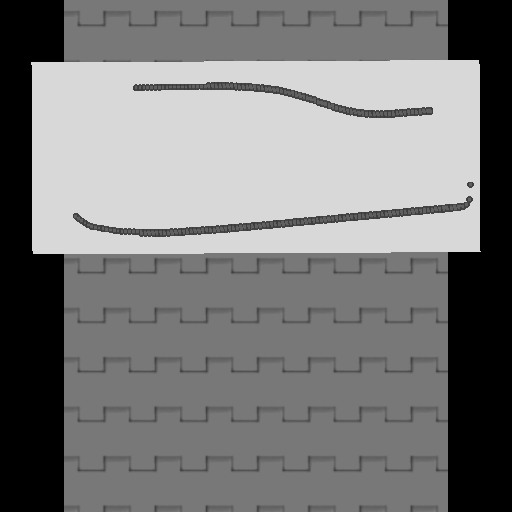Defect: (55, 80, 133, 220)
